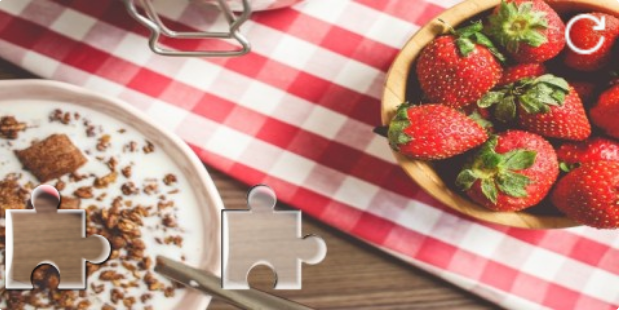target: (221, 185, 326, 290)
